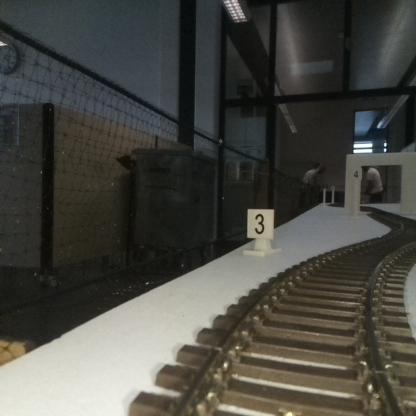white-info-4: (350, 168, 362, 218)
white-stop-3: (247, 209, 274, 253)
